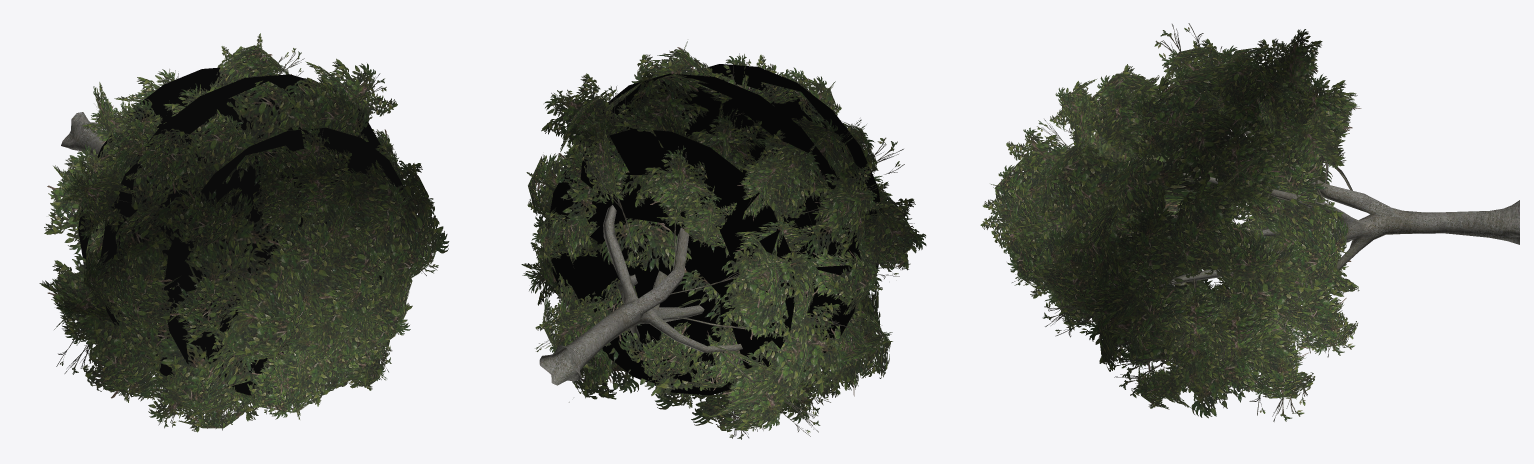
File: nt_tree_ficus_lrg_01_sway_LOD0.obj
3 renders of one model, left to right at view 1: azimuth 30°, elevation 25°; view 2: azimuth 150°, elevation 25°; view 3: azimuth 270°, elevation 25°, orthographic. The views are drawn at different scales.
Parts seen in each view (by area): view 1: mtl_p6_tree_ficus_lrg_01_foliage_noshadow_sway, t5_foliage_tree_standard_gobo_128, mtl_p6_tree_ficus_lrg_01_bark1; view 2: mtl_p6_tree_ficus_lrg_01_foliage_noshadow_sway, t5_foliage_tree_standard_gobo_128, mtl_p6_tree_ficus_lrg_01_bark1; view 3: mtl_p6_tree_ficus_lrg_01_foliage_noshadow_sway, mtl_p6_tree_ficus_lrg_01_bark1.
Boxes of the visible parts, x1,y1,x2,y2 form: mtl_p6_tree_ficus_lrg_01_foliage_noshadow_sway: [39, 33, 449, 432]; t5_foliage_tree_standard_gobo_128: [78, 67, 408, 395]; mtl_p6_tree_ficus_lrg_01_bark1: [61, 112, 106, 155]; mtl_p6_tree_ficus_lrg_01_foliage_noshadow_sway: [521, 41, 926, 439]; t5_foliage_tree_standard_gobo_128: [550, 64, 881, 395]; mtl_p6_tree_ficus_lrg_01_bark1: [539, 205, 742, 385]; mtl_p6_tree_ficus_lrg_01_foliage_noshadow_sway: [980, 23, 1361, 421]; mtl_p6_tree_ficus_lrg_01_bark1: [1147, 125, 1519, 294].
Bounding box in the file's own units: 1062 × 1071 × 1436.
